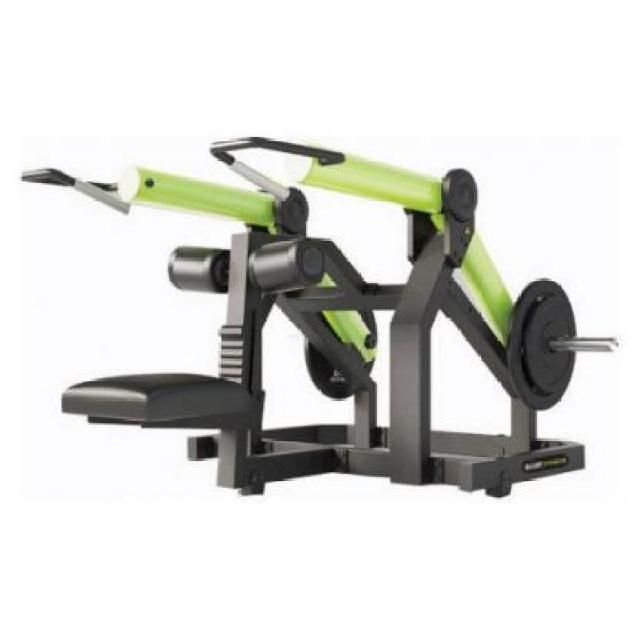seated dip machine: (23, 137, 620, 497)
